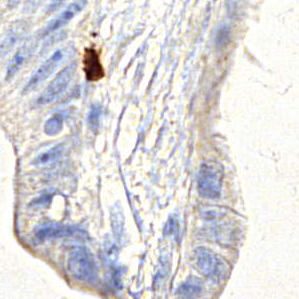Lymphocyte: (82, 46, 108, 81)
